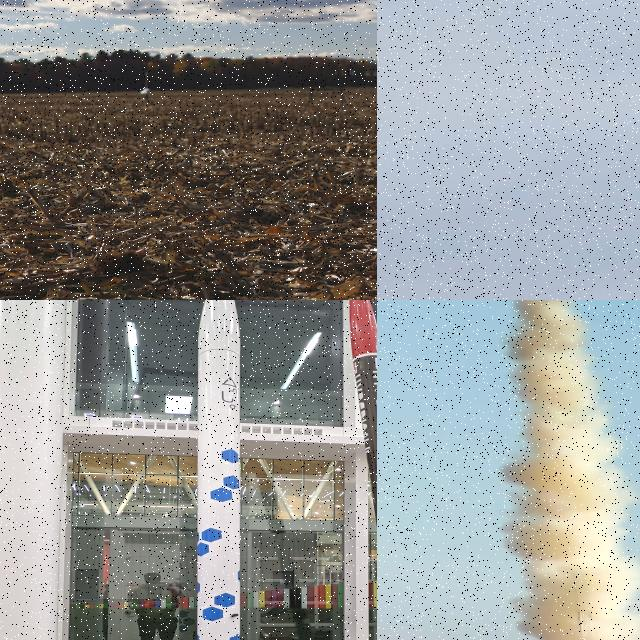Rocket: (197, 300, 241, 640), (351, 300, 377, 520), (145, 71, 148, 90)
